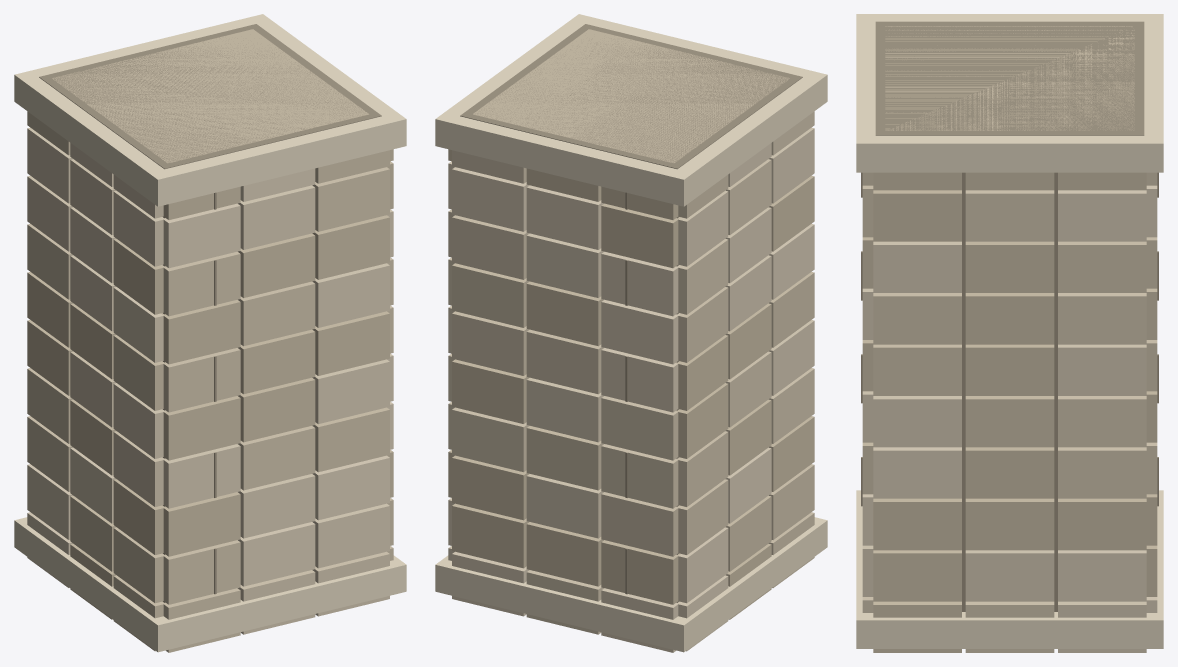
3 renders of one model, left to right at view 1: azimuth 30°, elevation 25°; view 2: azimuth 150°, elevation 25°; view 3: azimuth 270°, elevation 25°, orthographic. The views are drawn at different scales.
Visible parts, largest first — view 1: Bergfried – Steine, Säulen, Ziegel und Feuerstelle; view 2: Bergfried – Steine, Säulen, Ziegel und Feuerstelle; view 3: Bergfried – Steine, Säulen, Ziegel und Feuerstelle.
Boxes of the visible parts, x1=… form: Bergfried – Steine, Säulen, Ziegel und Feuerstelle: x1=14, y1=14, x2=406, y2=652; Bergfried – Steine, Säulen, Ziegel und Feuerstelle: x1=435, y1=14, x2=827, y2=652; Bergfried – Steine, Säulen, Ziegel und Feuerstelle: x1=856, y1=14, x2=1163, y2=652.
Bounding box in the file's own units: 222 × 410 × 222.
